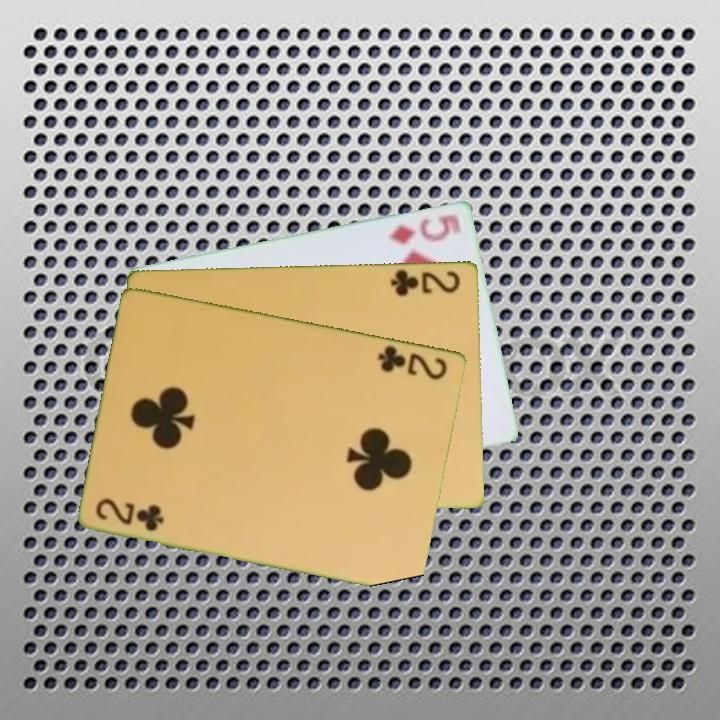2c: (374, 341, 451, 383), (93, 494, 167, 534), (387, 265, 464, 298)
5d: (385, 210, 464, 247)
